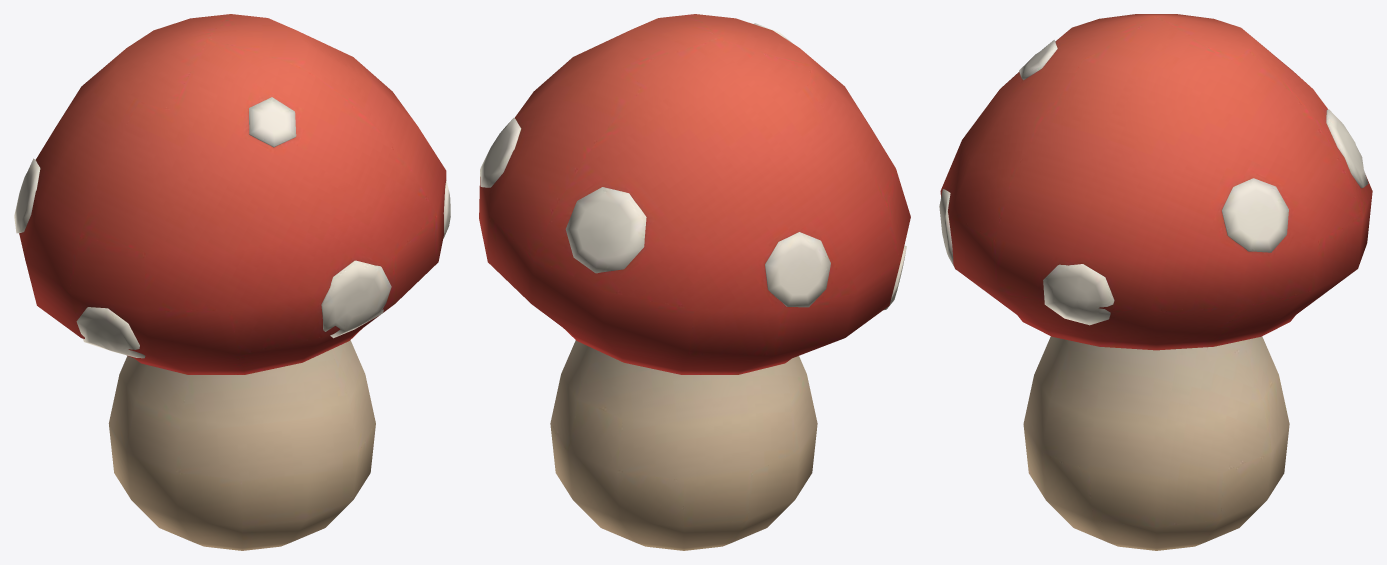
File: mushroom_red_2_mid.glb
The picture shows the model from 3 angles, left to right: view 1: azimuth 30°, elevation 25°; view 2: azimuth 150°, elevation 25°; view 3: azimuth 270°, elevation 25°; orthographic projection.
Parts seen in each view (by area): view 1: cap, mushroom_red_2; view 2: cap, mushroom_red_2; view 3: cap, mushroom_red_2.
Part boxes in pixels (box(x1,y1,x2,y2)): cap: box(14, 14, 450, 374); mushroom_red_2: box(108, 340, 375, 550); cap: box(479, 14, 910, 374); mushroom_red_2: box(550, 340, 817, 550); cap: box(939, 14, 1372, 350); mushroom_red_2: box(1023, 336, 1289, 550).
Size of the model in its own units: 0.3938 by 0.4974 by 0.3988.
Materials: 1 (1 with a texture image).
